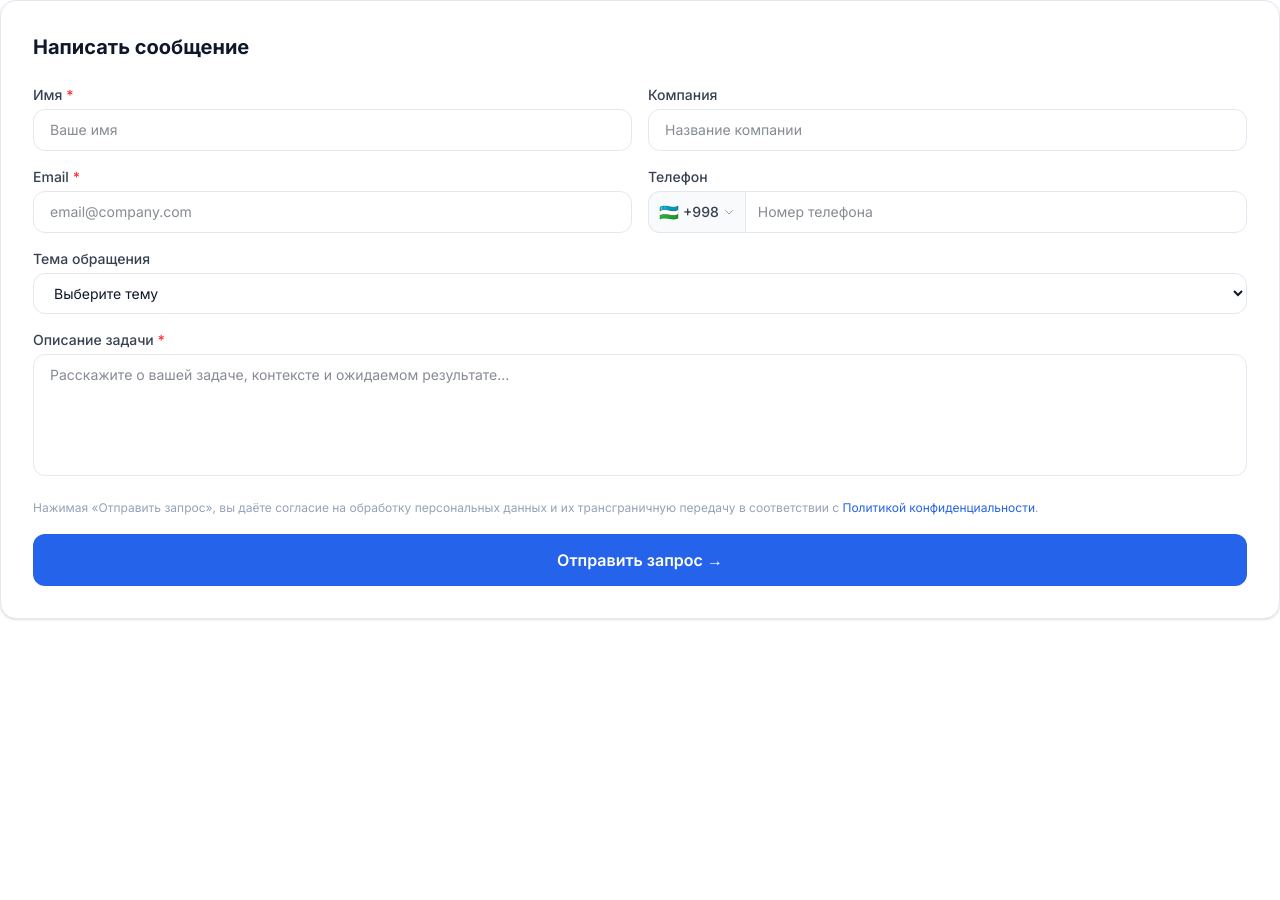
ContactForm — Russian (default) › shows error on failed submit
In the field named "name": x=332, y=130 [33,109,632,151], type "Тест"
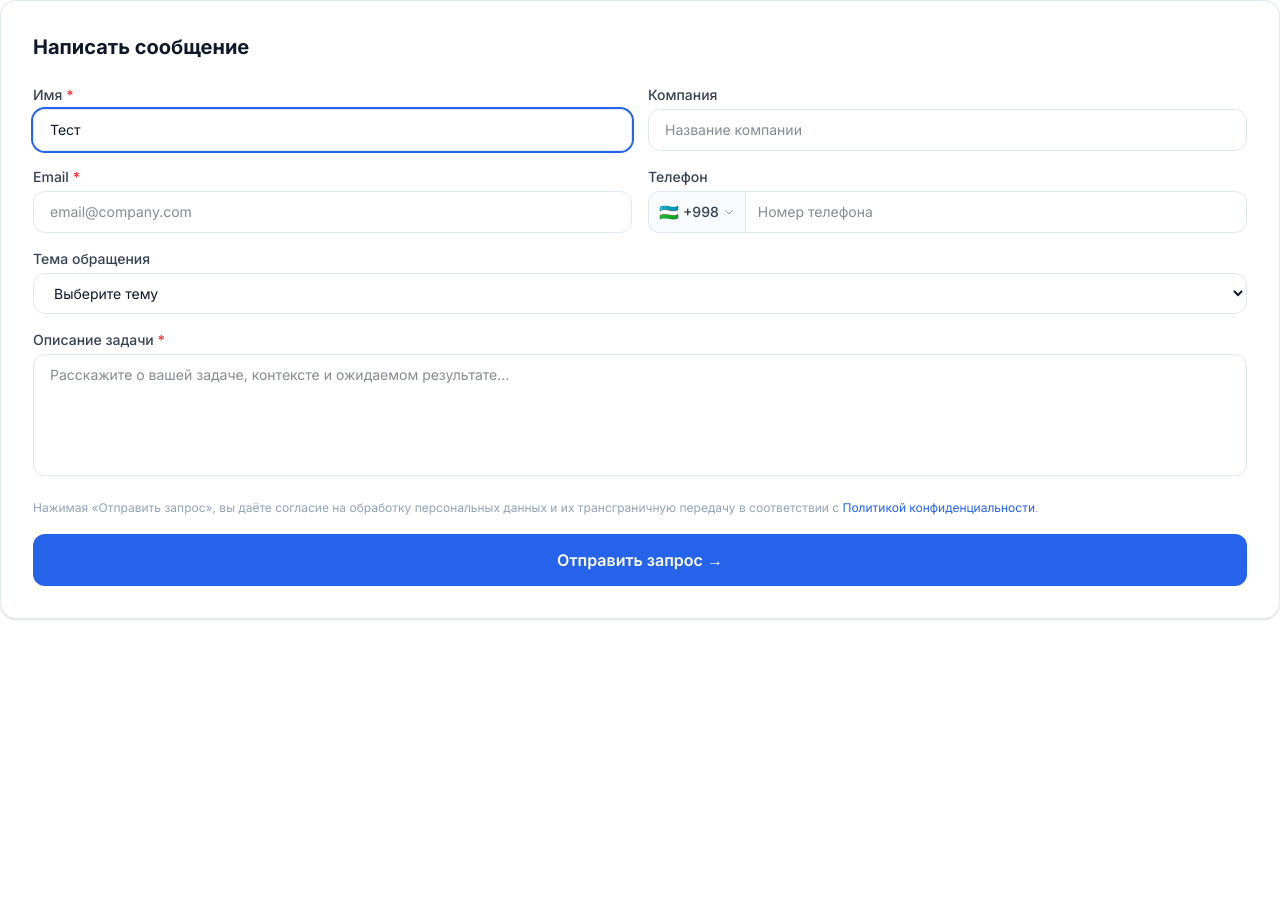
In the field named "email": x=332, y=212 [33,191,632,233], type "test@test.com"
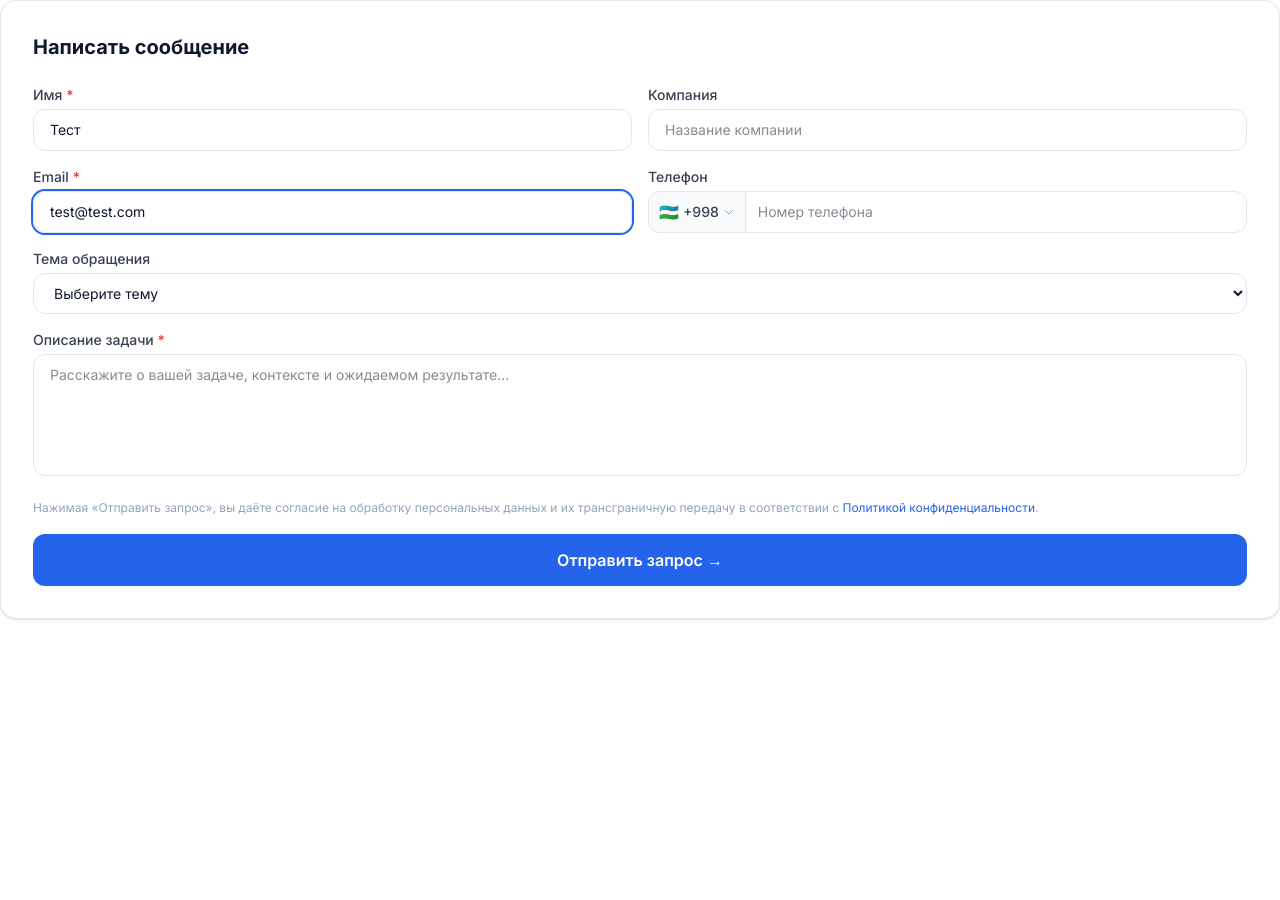
In the text box named "message": x=640, y=415 [33,354,1247,476], type "Тест"
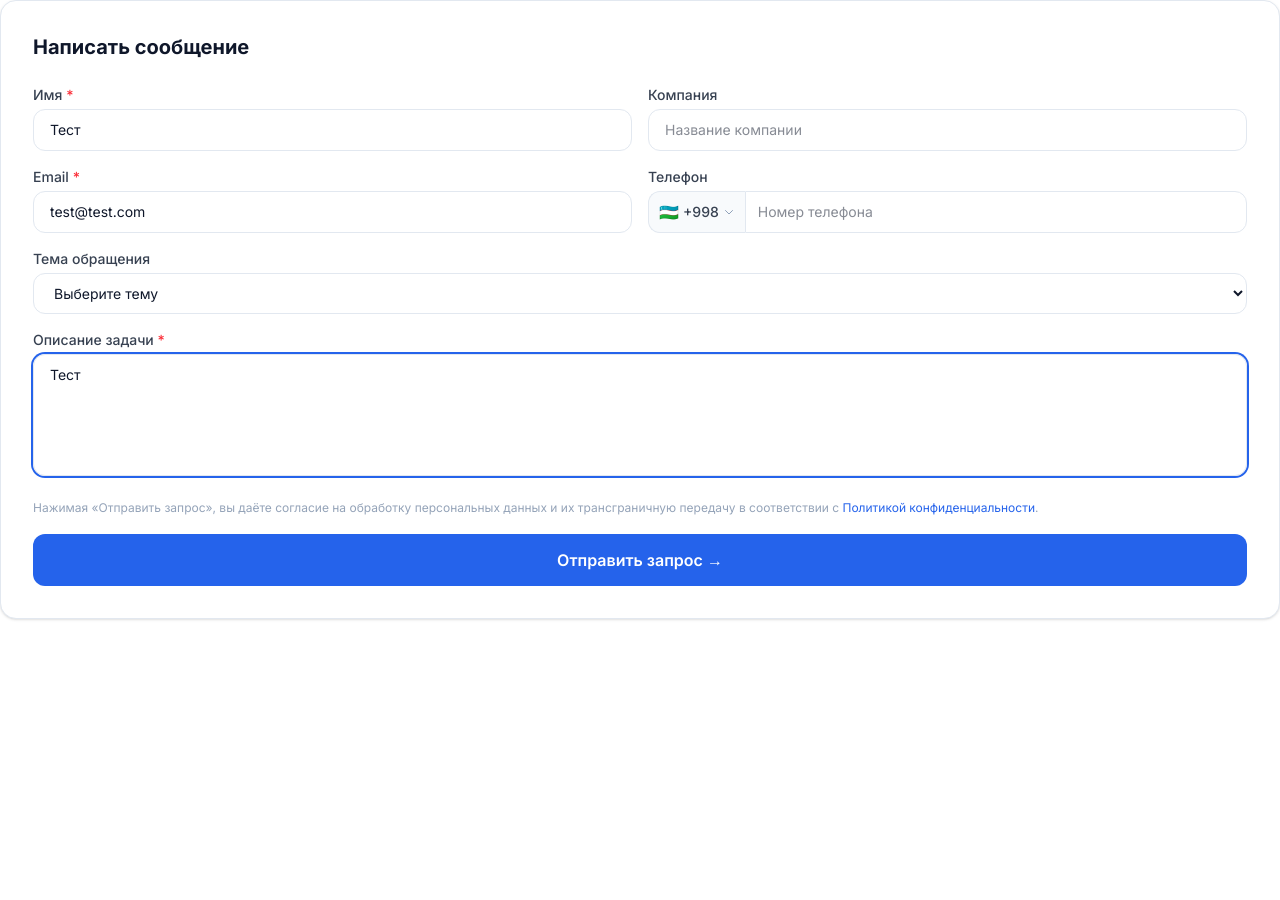
Click the submit button: x=640, y=560 [33,534,1247,586]
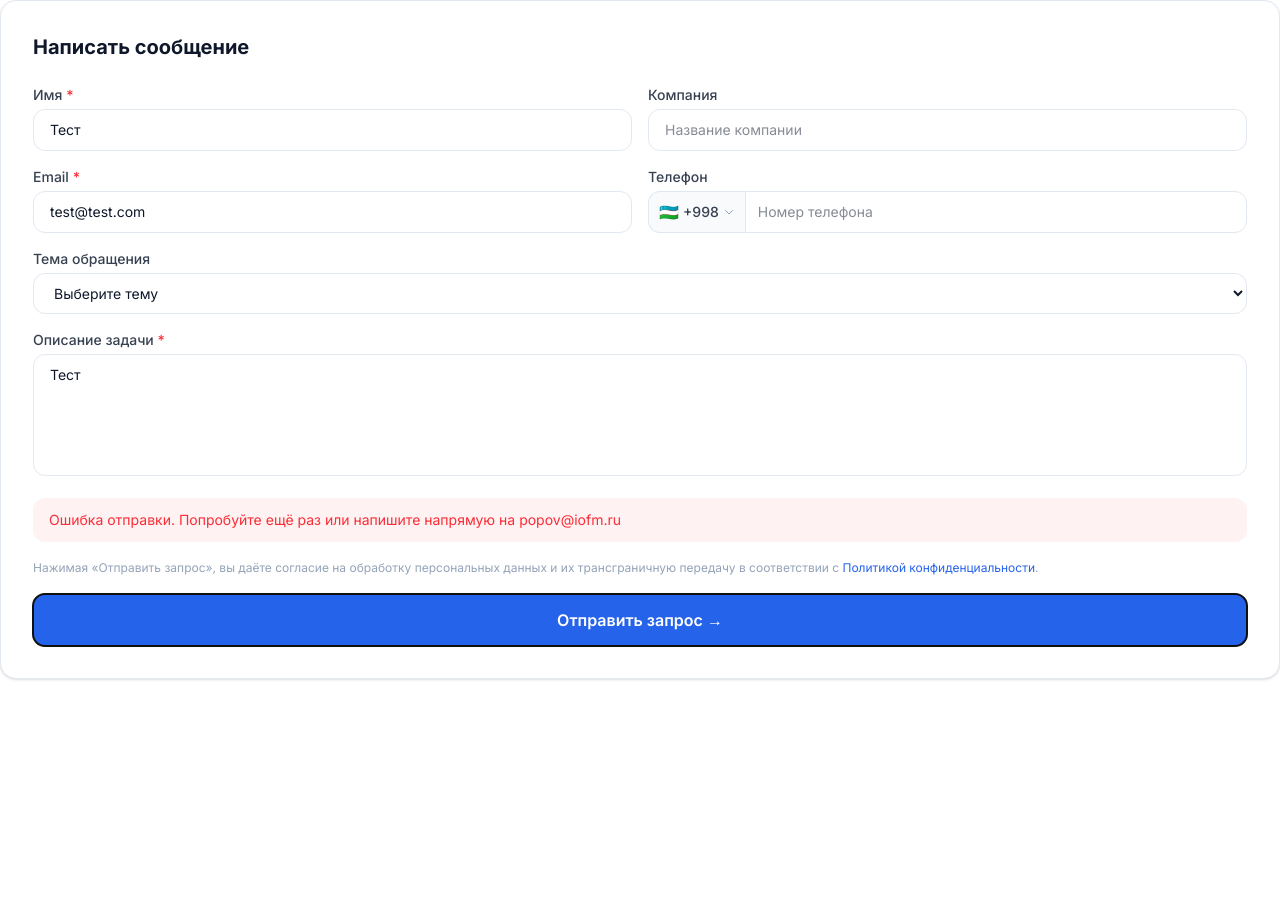
expect the text "Ошибка отправки" is shown: met, box [49,511,621,528]
